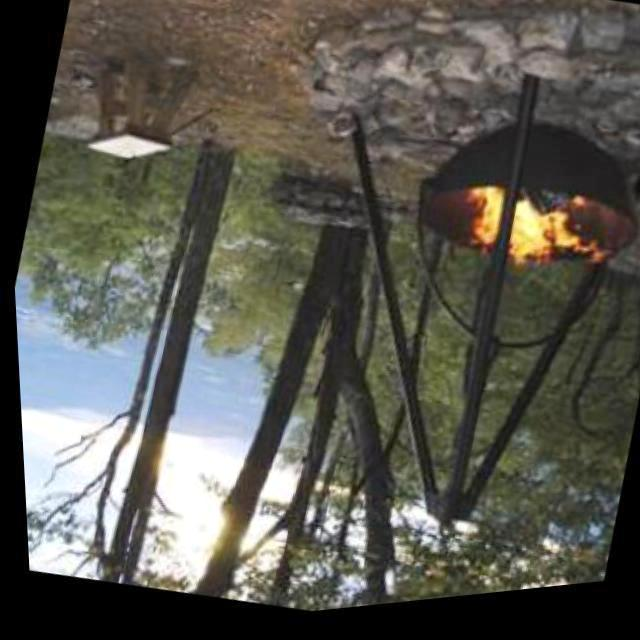fire: (443, 167, 592, 309)
